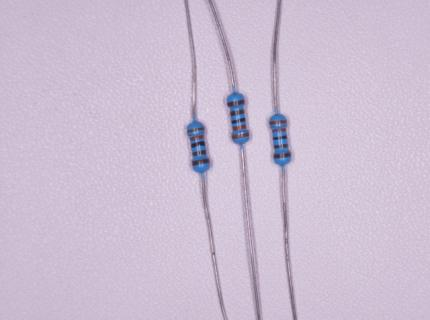Black band: (191, 141, 205, 149), (273, 135, 288, 141), (231, 118, 246, 124)
Brown band: (191, 158, 210, 167), (227, 99, 245, 107), (273, 152, 291, 159), (192, 150, 207, 157), (230, 109, 245, 116), (274, 144, 288, 150)
Orange band: (231, 133, 250, 140), (186, 127, 205, 134), (190, 135, 204, 142), (233, 124, 247, 131), (269, 120, 288, 125), (272, 128, 286, 133)
